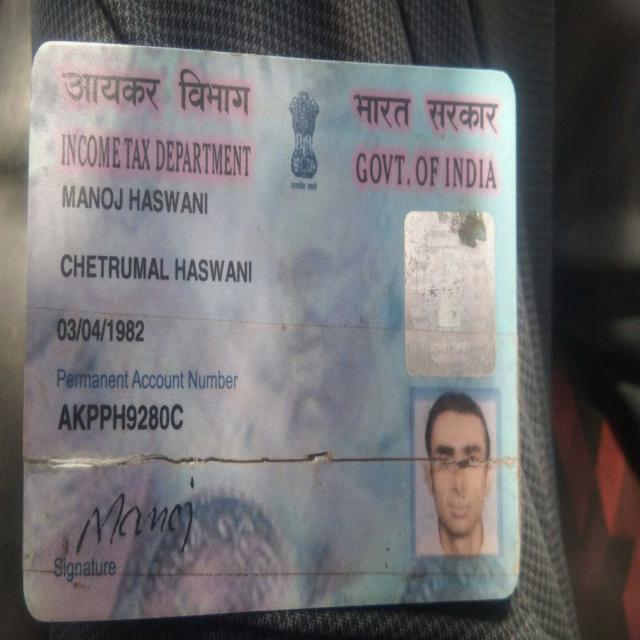pan_card: (30, 50, 511, 615)
